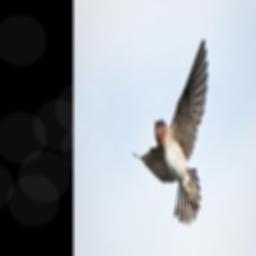Swallow: (133, 34, 210, 230)
